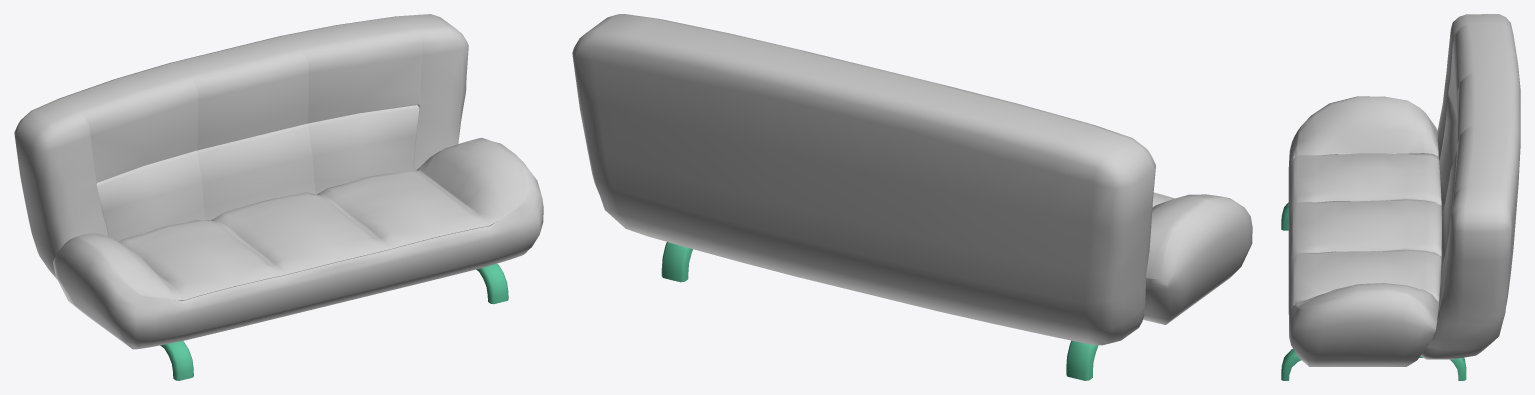
Rendered from GJSF322D.FBX.
3 views of the same model, side by side, from view 1: azimuth 30°, elevation 25°; view 2: azimuth 150°, elevation 25°; view 3: azimuth 270°, elevation 25° (orthographic). The views are drawn at different scales.
Parts seen in each view (by area): view 1: GJSF322D; view 2: GJSF322D; view 3: GJSF322D.
Boxes of the visible parts, x1,y1,x2,y2 form: GJSF322D: (14, 14, 543, 380); GJSF322D: (572, 14, 1252, 380); GJSF322D: (1281, 14, 1520, 380).
Bounding box in the file's own units: 210 × 101 × 94.
